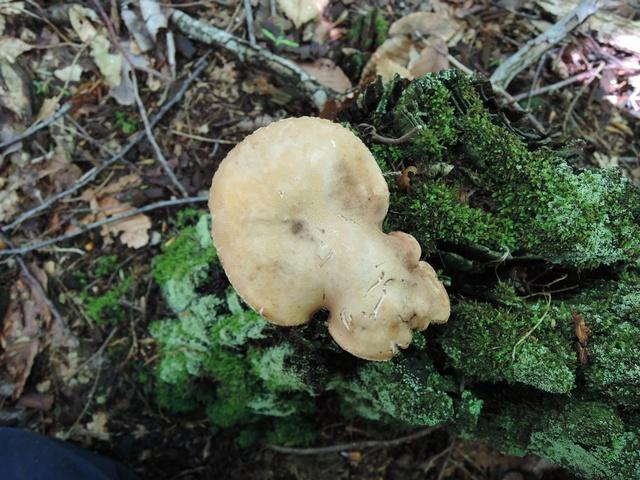poisonous_mushroom: (206, 114, 452, 362)
